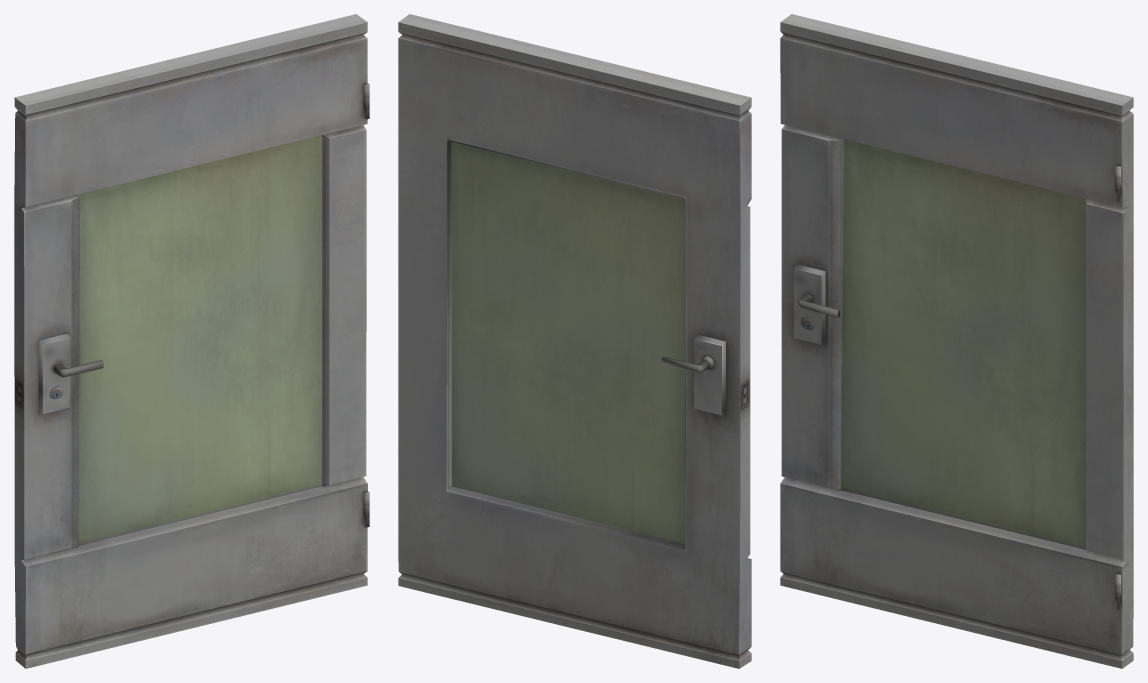
The model's file is exit_waitroom.dae.
The picture shows the model from 3 angles, left to right: view 1: azimuth 30°, elevation 25°; view 2: azimuth 150°, elevation 25°; view 3: azimuth 330°, elevation 25°; orthographic projection.
Parts seen in each view (by area): view 1: polySurface1; view 2: polySurface1; view 3: polySurface1.
Boxes of the visible parts, bbox=[...] form: polySurface1: bbox=[14, 14, 369, 668]; polySurface1: bbox=[398, 14, 751, 668]; polySurface1: bbox=[780, 14, 1133, 668].
Bounding box in the file's own units: 175 × 275 × 30.84.
